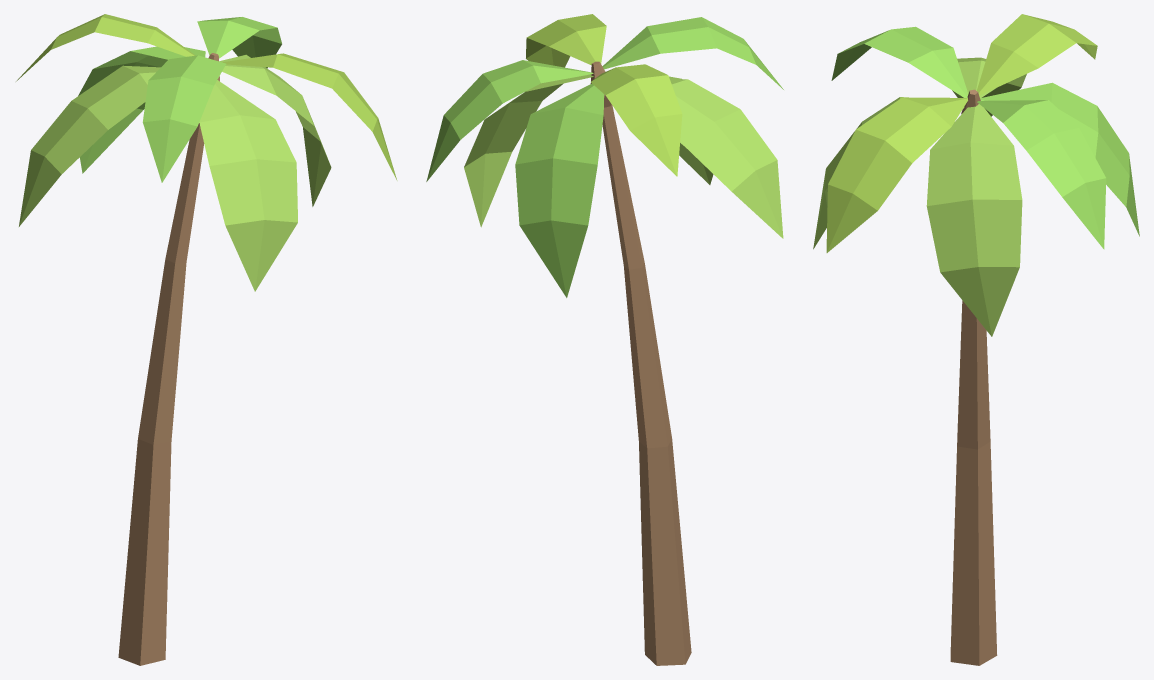
The model's file is Palm_Tree_m_02_LOD.fbx.
The picture shows the model from 3 angles, left to right: view 1: azimuth 30°, elevation 25°; view 2: azimuth 150°, elevation 25°; view 3: azimuth 270°, elevation 25°; orthographic projection. The views are drawn at different scales.
Parts seen in each view (by area): view 1: Palm_Tree_m_02_LOD0; view 2: Palm_Tree_m_02_LOD0; view 3: Palm_Tree_m_02_LOD0.
Part boxes in pixels (bbox=[...]): Palm_Tree_m_02_LOD0: bbox=[16, 14, 397, 665]; Palm_Tree_m_02_LOD0: bbox=[426, 14, 783, 665]; Palm_Tree_m_02_LOD0: bbox=[813, 14, 1139, 665].
Size of what is drawn, in the model's own units: 334 by 630 by 296.
